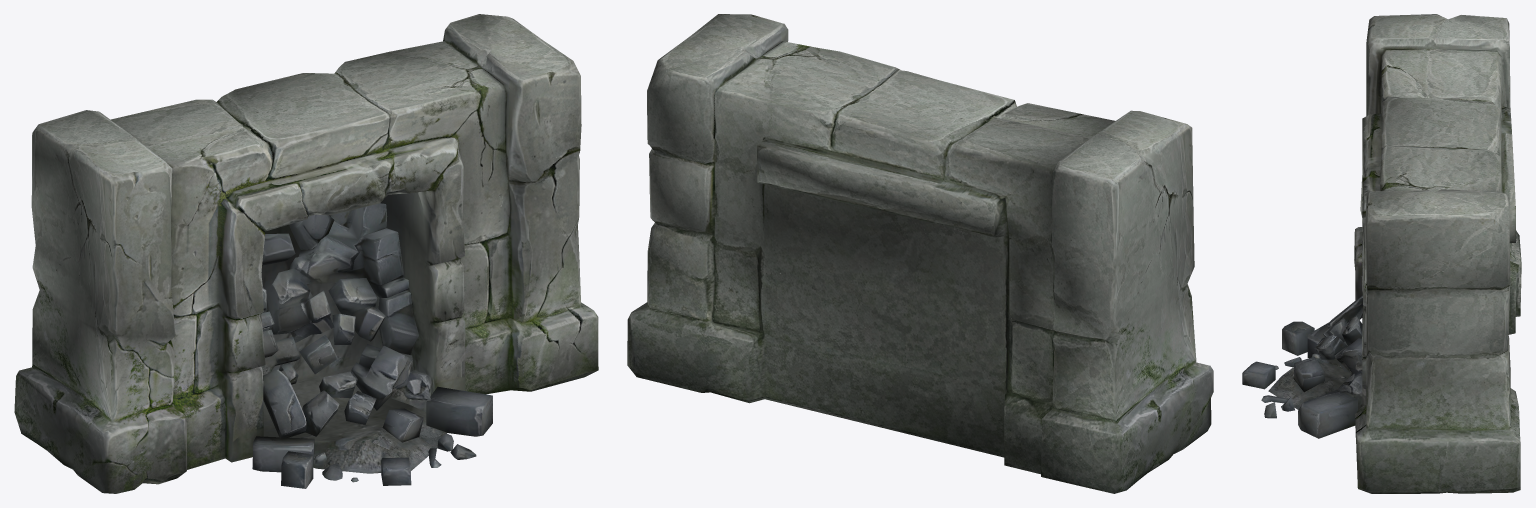
File: passage_rubble.glb
3 renders of one model, left to right at view 1: azimuth 30°, elevation 25°; view 2: azimuth 150°, elevation 25°; view 3: azimuth 270°, elevation 25°, orthographic. The views are drawn at different scales.
Parts seen in each view (by area): view 1: passage_rubble; view 2: passage_rubble; view 3: passage_rubble.
Part boxes in pixels (bbox=[...]): passage_rubble: bbox=[14, 14, 598, 493]; passage_rubble: bbox=[627, 14, 1213, 493]; passage_rubble: bbox=[1242, 14, 1521, 493].
Size of the model in its own units: 0.9995 by 0.5972 by 0.5513.
1 material, 1 textured.
